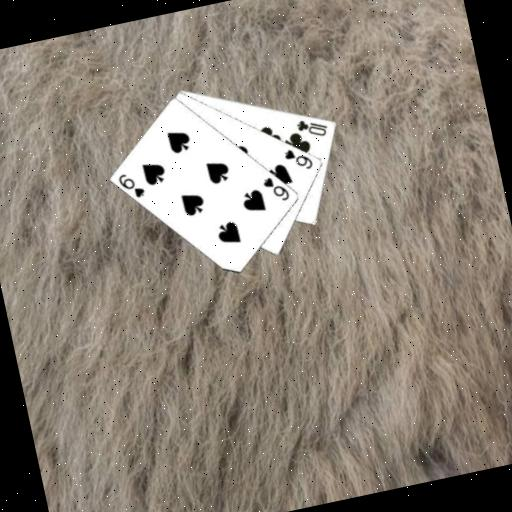10C: (293, 111, 331, 142)
6S: (115, 166, 148, 203), (280, 142, 316, 175), (259, 170, 292, 206)
